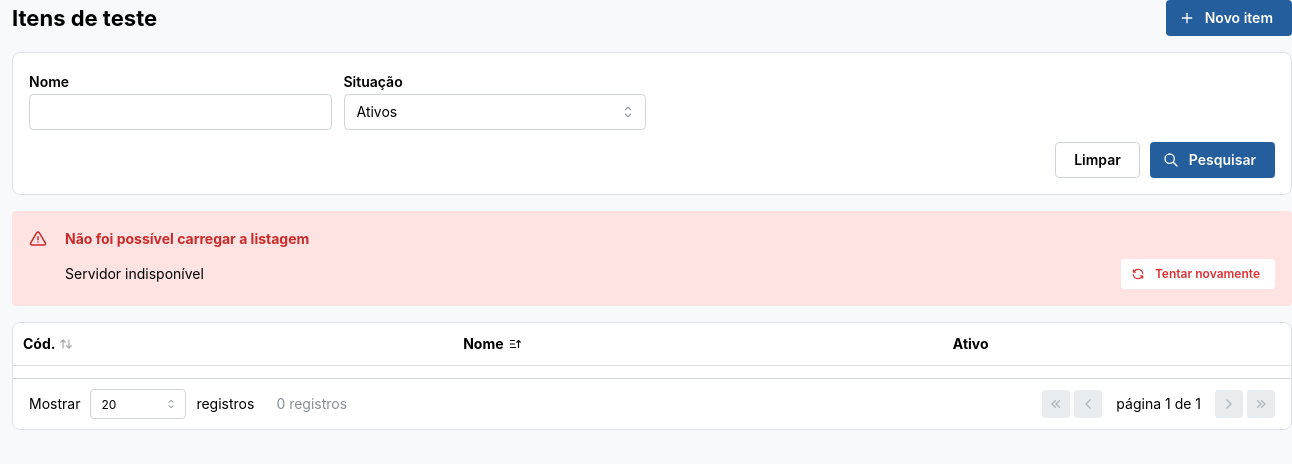
Test case: <Listagem> › vazio mostra a mensagem com Limpar filtros; erro mostra a faixa com Tentar novamente
Expected: the message shows "Servidor indisponível", [65, 265, 204, 282]
Click the button "Tentar novamente": (1198, 274) [1120, 260, 1275, 290]
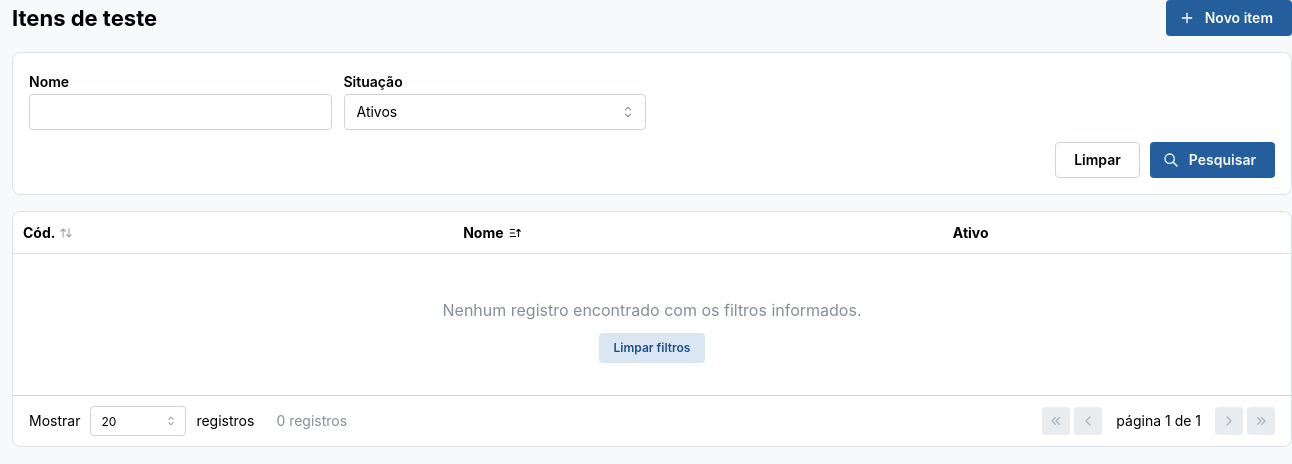
Now the text "Nenhum registro encontrado com os filtros informados." is shown, box [442, 298, 862, 323]
Now the button "Limpar filtros" is shown, box [599, 333, 705, 363]
